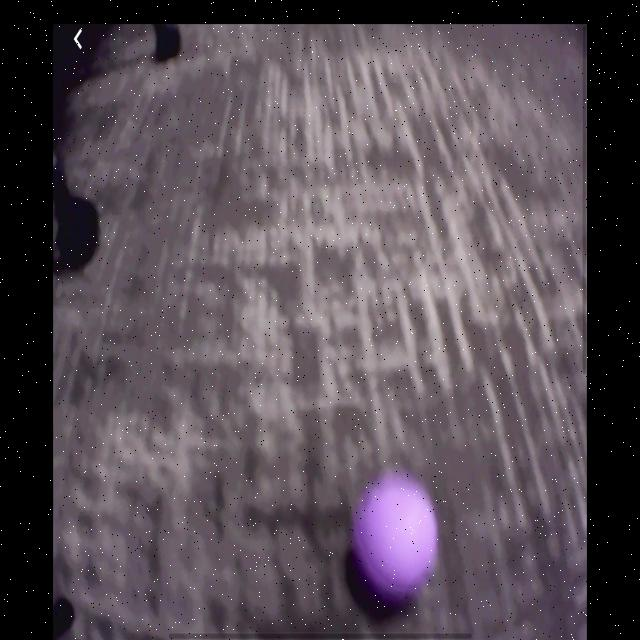ball: (351, 470, 440, 604)
